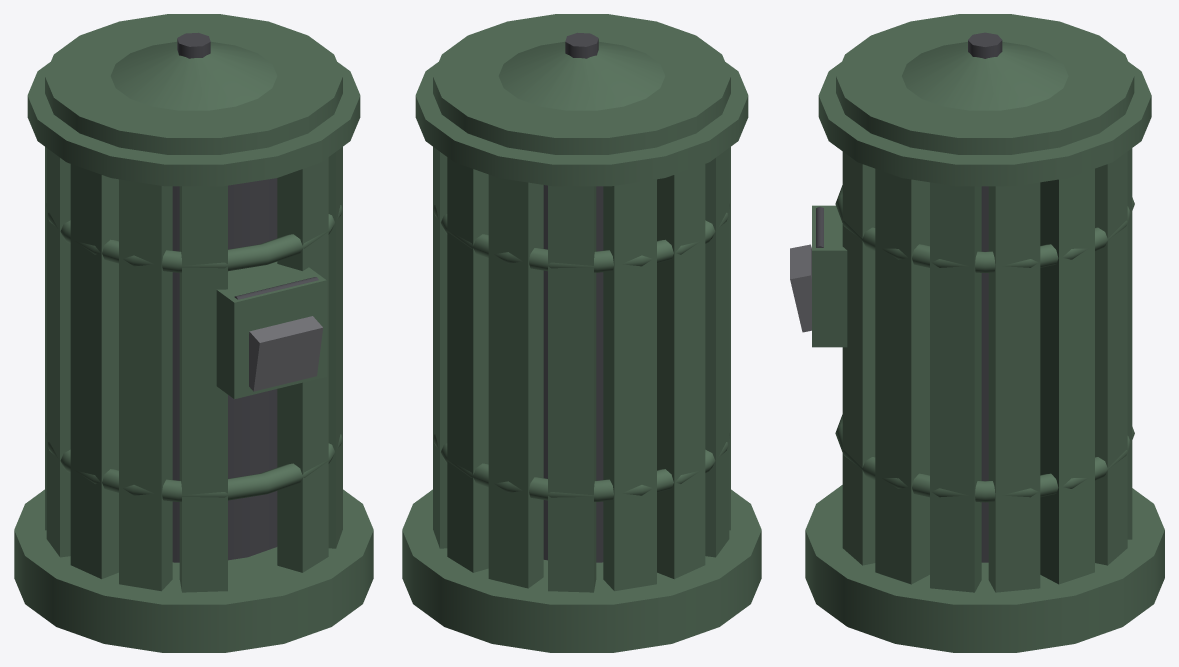
The model's file is TrashCan_Lidded.fbx.
3 views of the same model, side by side, from view 1: azimuth 30°, elevation 25°; view 2: azimuth 150°, elevation 25°; view 3: azimuth 270°, elevation 25° (orthographic).
Visible parts, largest first — view 1: LOD0; view 2: LOD0; view 3: LOD0.
Boxes of the visible parts, left/top/right/bottom form: LOD0: left=14, top=14, right=373, bottom=652; LOD0: left=402, top=14, right=761, bottom=652; LOD0: left=790, top=14, right=1164, bottom=652.
Size of what is drawn, in the model's own units: 53.18 by 89.2 by 56.3.
